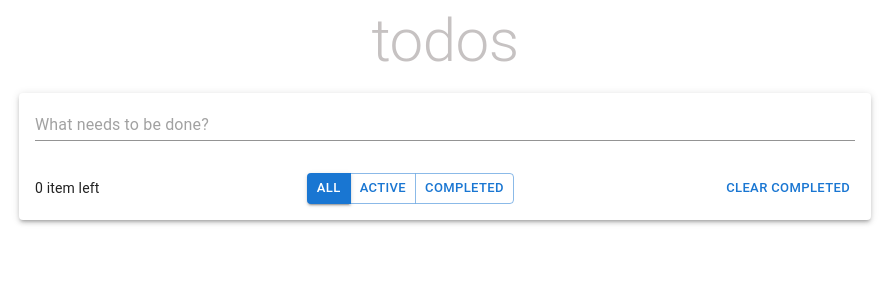
Test: ToDo App › добавляет новую задачу
The width and height of the screenshot is (891, 301).
In the field with placeholder "What needs to be done?": (445, 125) [35,109,855,141], type "Погладить собаку"
Then press Enter
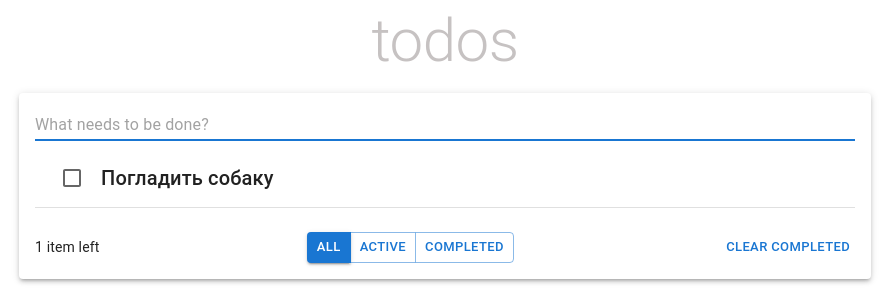
Result: the heading "Погладить собаку" is shown at [101,162,274,194]
